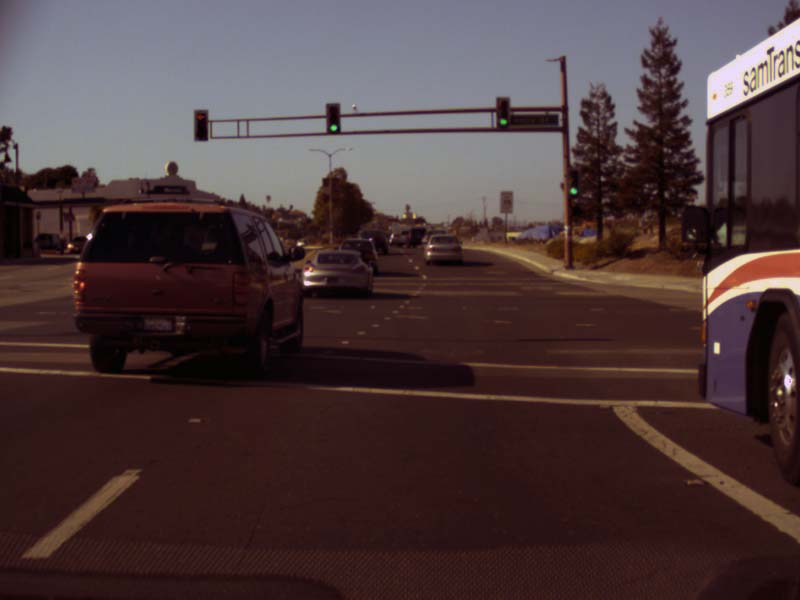Green: (326, 103, 339, 133), (497, 96, 509, 126), (569, 170, 578, 195)
Red: (193, 108, 208, 140)
